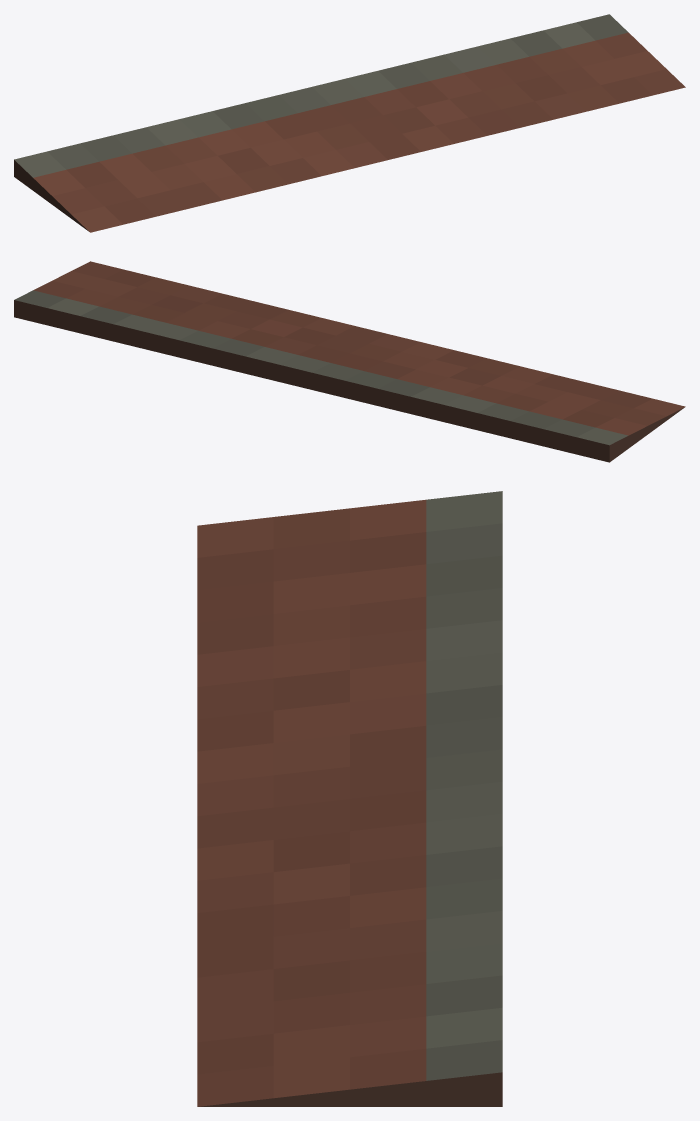
The model's file is skylight_lip.glb.
The picture shows the model from 3 angles, top to bottom: view 1: azimuth 30°, elevation 25°; view 2: azimuth 150°, elevation 25°; view 3: azimuth 270°, elevation 25°; orthographic projection. The views are drawn at different scales.
Parts seen in each view (by area): view 1: skylight_lip; view 2: skylight_lip; view 3: skylight_lip.
Part boxes in pixels (left/top/right/bottom): skylight_lip: left=14, top=14, right=685, bottom=232; skylight_lip: left=14, top=261, right=685, bottom=462; skylight_lip: left=197, top=491, right=502, bottom=1106.
Bounding box in the file's own units: 18 × 0.5 × 4.
